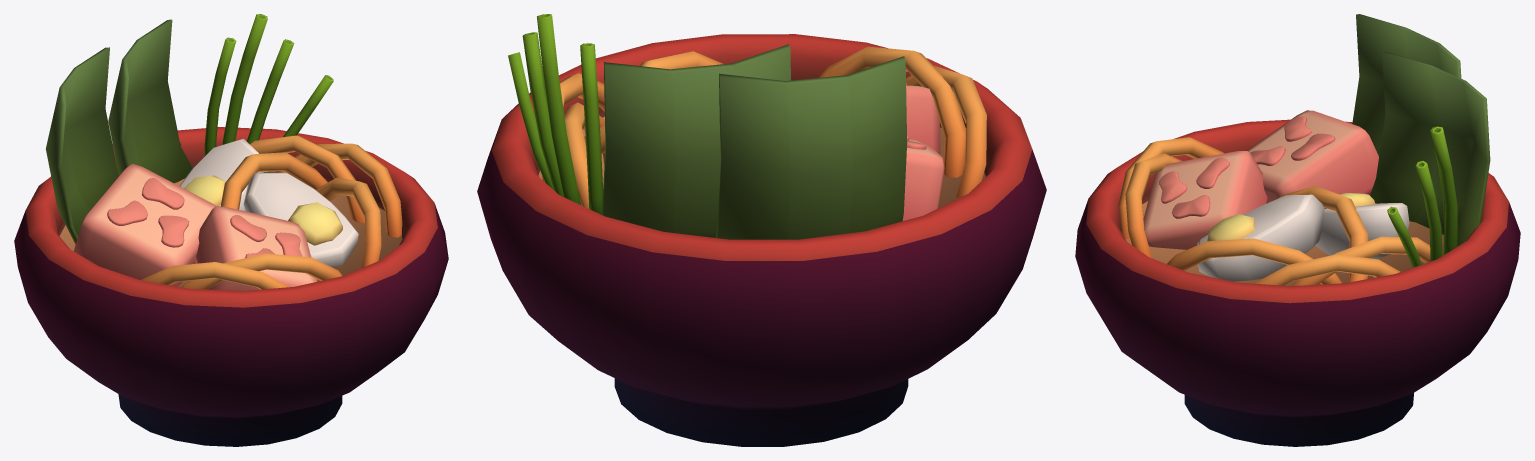
File: lpb_food_ramen.fbx
3 renders of one model, left to right at view 1: azimuth 30°, elevation 25°; view 2: azimuth 150°, elevation 25°; view 3: azimuth 270°, elevation 25°, orthographic. The views are drawn at different scales.
Visible parts, largest first — view 1: ramen; view 2: ramen; view 3: ramen.
Boxes of the visible parts, <box> form: ramen: <box>14,14,448,446</box>; ramen: <box>477,14,1046,446</box>; ramen: <box>1075,14,1520,446</box>.
Size of the model in its own units: 54.87 by 43.21 by 54.59.
